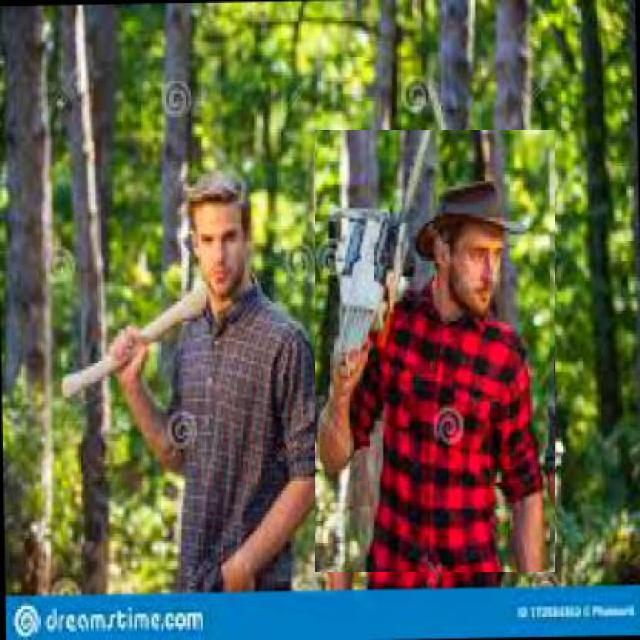Hunter: (316, 130, 556, 572), (100, 169, 323, 580)
